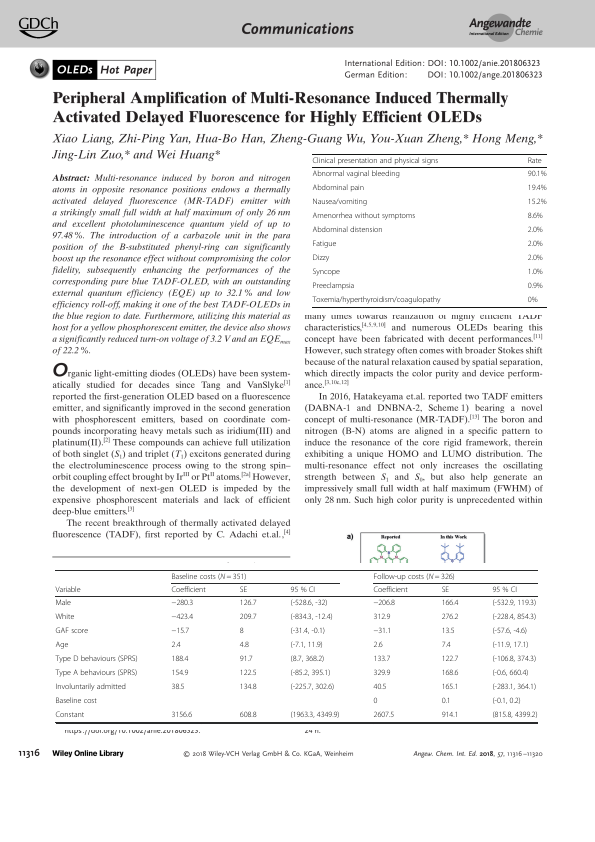borderless: (54, 568, 537, 722), (311, 152, 547, 307)
cell: (311, 295, 441, 305), (312, 156, 439, 165), (312, 211, 416, 221), (312, 169, 401, 179), (54, 654, 138, 664), (54, 668, 138, 678), (372, 572, 456, 581), (54, 682, 127, 692), (312, 225, 384, 235), (171, 572, 247, 581), (312, 197, 368, 207), (312, 183, 365, 193), (290, 710, 340, 720), (491, 710, 538, 720), (491, 598, 537, 608), (491, 612, 537, 622), (491, 654, 537, 664), (491, 682, 537, 692), (290, 682, 335, 692), (54, 696, 98, 706), (290, 612, 333, 622), (312, 281, 355, 291), (290, 668, 331, 678), (290, 598, 328, 608), (491, 640, 529, 650), (491, 668, 529, 678), (372, 585, 409, 595), (491, 626, 528, 636), (171, 585, 207, 595), (290, 626, 326, 636), (54, 626, 89, 636), (290, 654, 325, 664), (290, 640, 324, 650), (491, 696, 522, 706), (54, 710, 85, 720), (312, 267, 341, 277), (54, 585, 81, 595), (491, 585, 518, 595), (290, 585, 316, 595), (312, 239, 337, 249), (372, 598, 396, 608), (171, 598, 194, 608), (171, 612, 194, 622), (372, 710, 395, 720), (171, 710, 193, 720), (54, 612, 75, 622), (372, 626, 392, 636), (527, 169, 547, 179), (527, 183, 547, 193), (527, 197, 547, 207), (372, 612, 391, 622), (171, 626, 190, 636), (372, 654, 391, 664), (372, 668, 391, 678), (54, 598, 72, 608), (239, 598, 257, 608), (441, 598, 459, 608), (239, 612, 257, 622), (441, 612, 459, 622), (171, 654, 189, 664), (441, 654, 459, 664), (171, 668, 189, 678), (239, 668, 257, 678), (441, 668, 459, 678), (239, 682, 257, 692), (441, 682, 459, 692), (239, 710, 257, 720), (441, 710, 459, 720), (312, 253, 330, 263), (527, 211, 544, 221), (527, 225, 544, 235), (527, 239, 544, 249), (527, 253, 544, 263), (527, 267, 544, 277), (527, 281, 544, 291), (54, 640, 69, 650), (239, 654, 254, 664), (372, 682, 387, 692), (527, 156, 543, 165), (441, 626, 455, 636), (171, 682, 185, 692), (171, 640, 182, 650), (239, 640, 250, 650), (372, 640, 383, 650), (441, 640, 452, 650), (441, 696, 452, 706), (527, 295, 538, 305), (239, 585, 248, 595), (441, 585, 450, 595), (239, 626, 245, 636), (372, 696, 378, 706)
